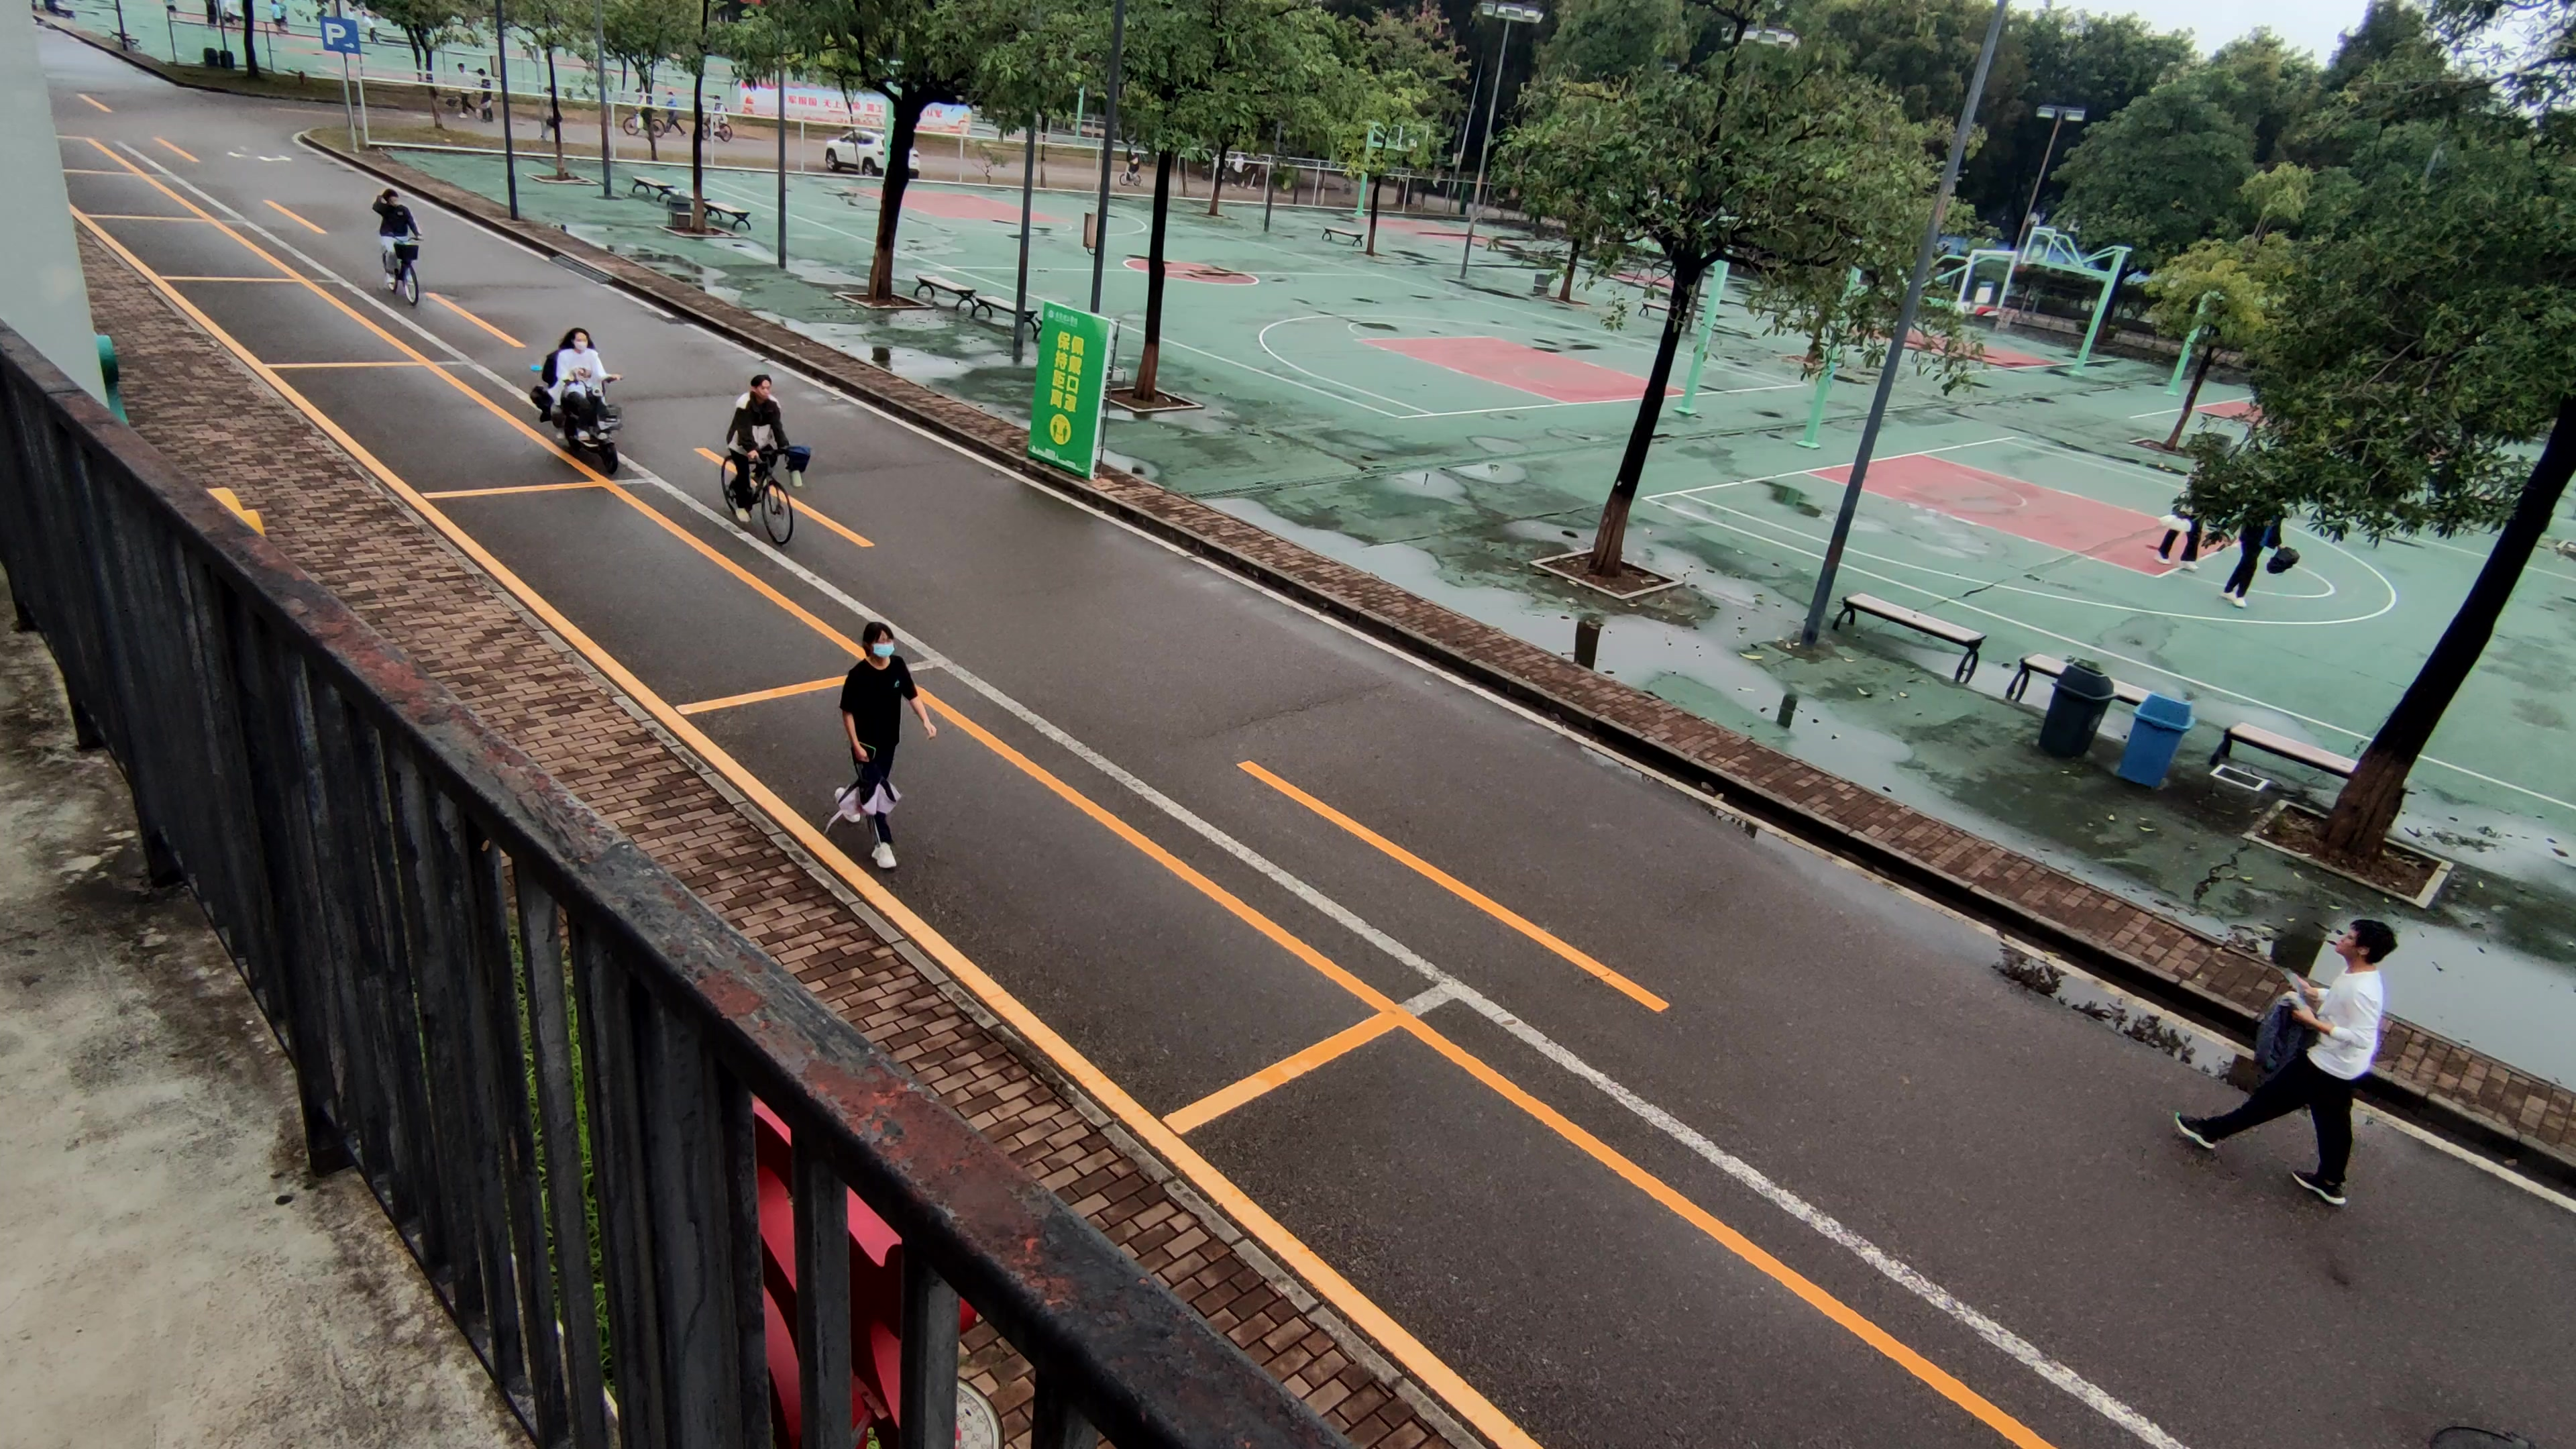space-empty: (662, 658, 1405, 1139), (409, 471, 890, 720), (255, 359, 602, 499), (159, 267, 421, 372), (83, 203, 311, 287)
